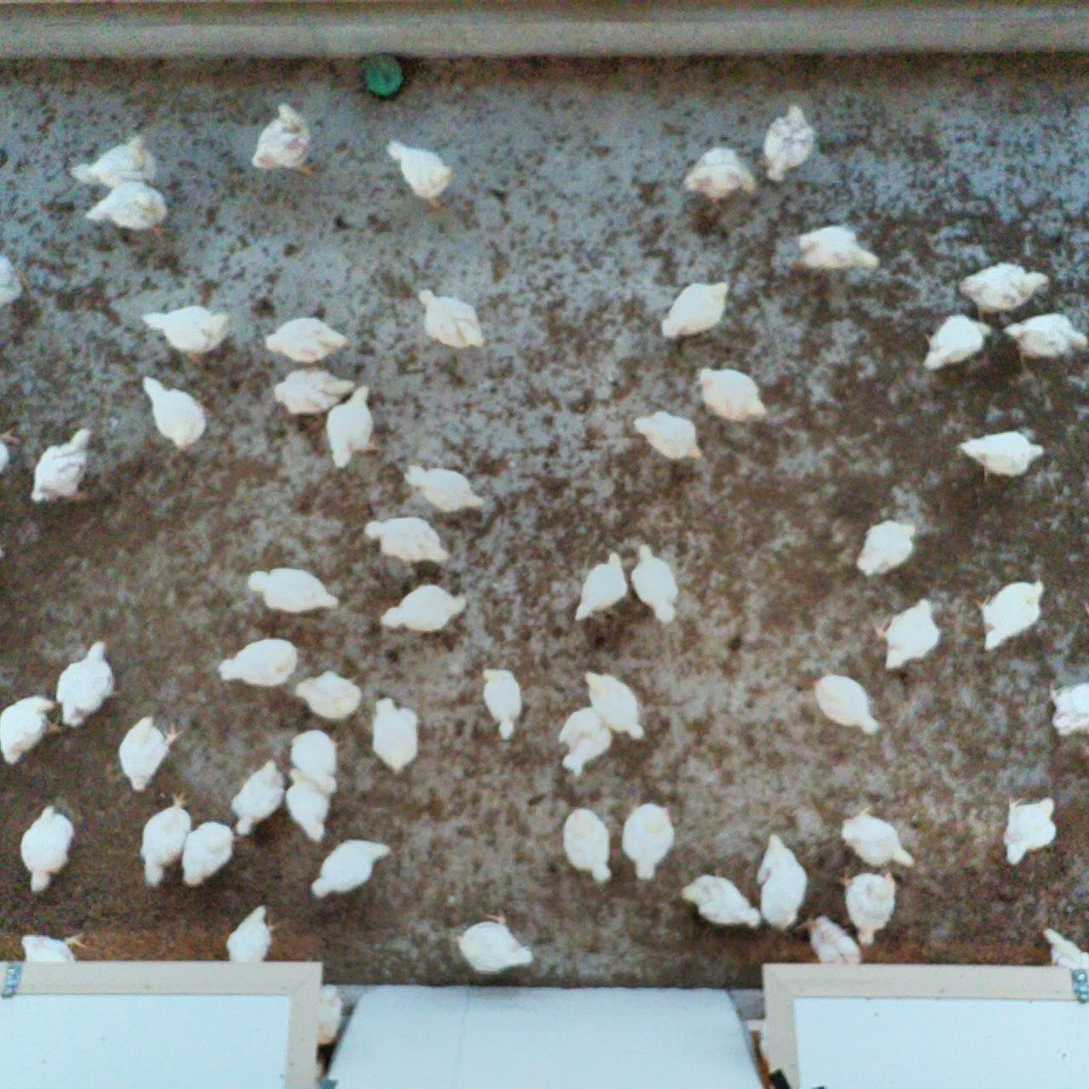chicken: (54, 631, 131, 730), (953, 254, 1055, 327), (968, 573, 1053, 657), (33, 424, 108, 519), (828, 858, 903, 952), (12, 799, 83, 898), (139, 299, 236, 371), (320, 382, 392, 478), (677, 138, 764, 217), (84, 177, 182, 247), (243, 98, 325, 181), (452, 901, 536, 982), (139, 374, 218, 460), (750, 827, 811, 936), (114, 709, 187, 799), (804, 662, 885, 743), (135, 787, 193, 898), (789, 218, 885, 284), (864, 590, 941, 672), (381, 135, 459, 215), (955, 422, 1047, 489), (0, 687, 71, 773), (399, 456, 491, 522), (839, 802, 922, 875), (998, 302, 1089, 368), (754, 99, 820, 190), (657, 274, 738, 348), (409, 284, 493, 355), (224, 753, 292, 840), (676, 868, 763, 935), (377, 577, 471, 639), (241, 562, 342, 619), (628, 536, 688, 631), (308, 837, 393, 904), (68, 129, 160, 190), (916, 312, 998, 379), (579, 668, 649, 746), (690, 363, 774, 428), (366, 691, 427, 779), (620, 800, 680, 889), (361, 510, 451, 569), (215, 633, 301, 694), (1001, 788, 1064, 871), (261, 312, 354, 367), (852, 516, 926, 585), (570, 546, 631, 629), (630, 405, 711, 465), (269, 365, 357, 420), (556, 699, 616, 779), (559, 802, 615, 887), (178, 816, 241, 891), (474, 659, 526, 747), (279, 764, 336, 844), (287, 726, 350, 798), (291, 666, 368, 724), (797, 907, 865, 969), (224, 899, 284, 964), (1043, 669, 1089, 743), (16, 926, 93, 963), (1040, 919, 1089, 972), (0, 249, 36, 312)
